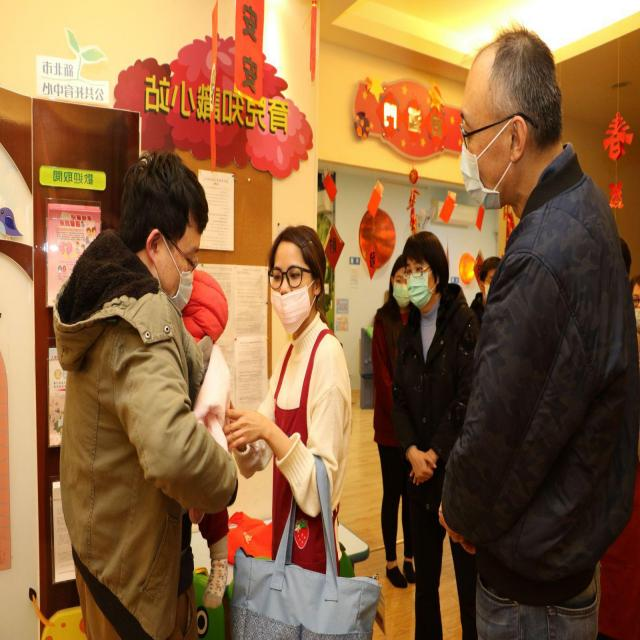face: (460, 44, 546, 213), (145, 186, 208, 306), (270, 233, 321, 339), (403, 234, 448, 314), (389, 252, 410, 312), (479, 257, 503, 306), (631, 278, 640, 330)
